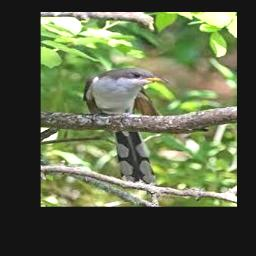Cuckoo: (83, 67, 169, 185)
